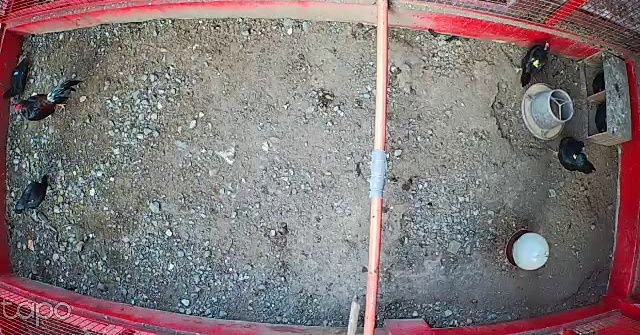Chicken: (512, 37, 563, 88), (544, 133, 600, 177), (14, 174, 56, 217), (6, 54, 33, 103)
Rooster: (12, 77, 81, 123)
Saddle_Color_Blue: (13, 71, 19, 75)
Saddle_Color_Yellow: (530, 58, 542, 68)
